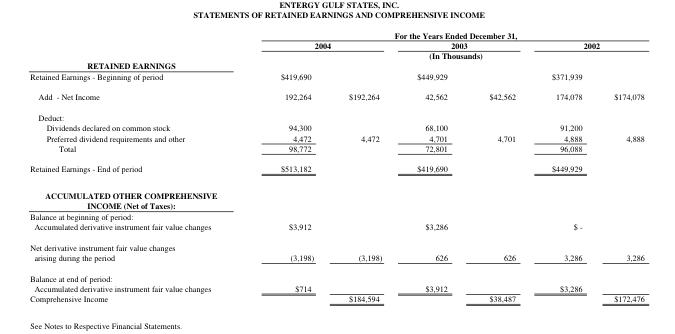table: (29, 28, 643, 303)
table column: (29, 28, 245, 303), (245, 28, 330, 303), (398, 28, 467, 303), (330, 28, 398, 303), (467, 28, 533, 303), (533, 28, 597, 303), (597, 28, 643, 303)
table column header: (29, 28, 643, 60)
table projected row header: (29, 181, 643, 199), (29, 106, 643, 121), (29, 236, 643, 251), (29, 267, 643, 282), (29, 199, 643, 210), (29, 60, 643, 70), (29, 210, 643, 220)
table row: (29, 157, 643, 181), (29, 85, 643, 106), (29, 181, 643, 199), (29, 220, 643, 236), (29, 251, 643, 267), (29, 70, 643, 85), (29, 106, 643, 121), (29, 142, 643, 157), (29, 236, 643, 251), (29, 267, 643, 282), (29, 28, 643, 39), (29, 39, 643, 50), (29, 121, 643, 132), (29, 199, 643, 210), (29, 292, 643, 303), (29, 50, 643, 60), (29, 60, 643, 70), (29, 132, 643, 142), (29, 210, 643, 220), (29, 282, 643, 292)
table spanning cell: (245, 28, 643, 39), (245, 50, 643, 60), (245, 39, 398, 50), (398, 39, 533, 50), (533, 39, 643, 50)
